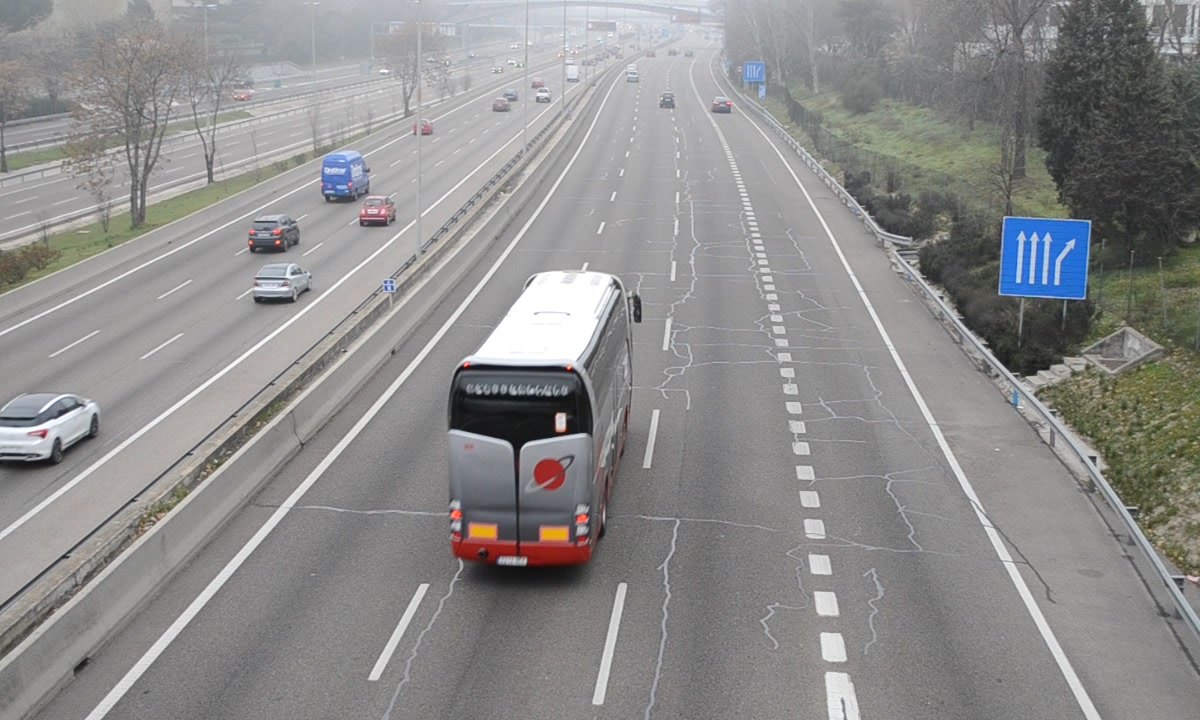bus: (447, 271, 635, 571)
car: (711, 95, 732, 114), (658, 91, 677, 110)
